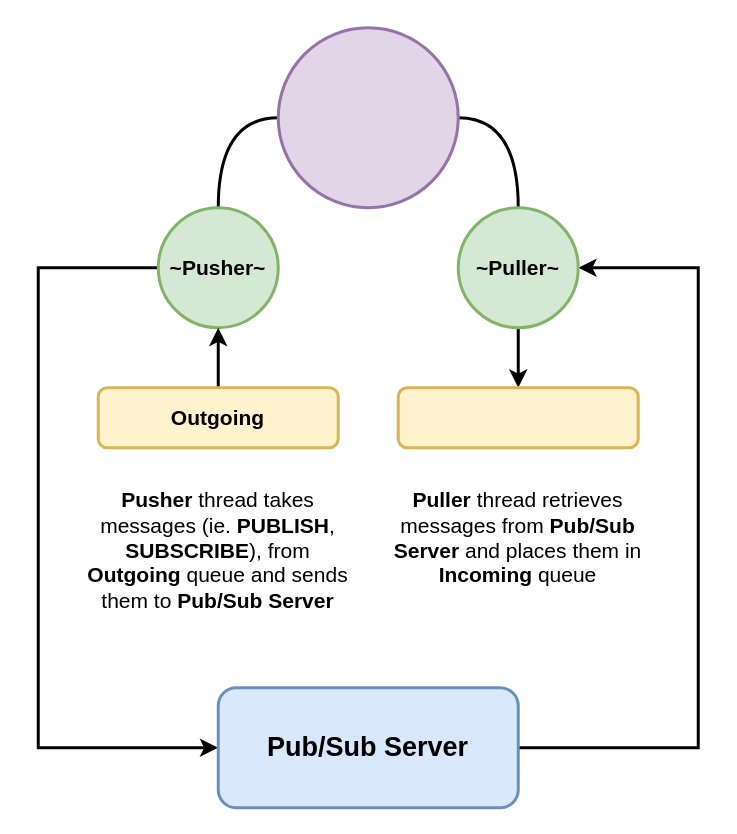
Image size: 737x834. Some labels were removed from this diagram. The shapes that lost their labels are listed below. From the top down, each one's box as (x1, y1, x2, y2) in pixels, then its label:
(276, 26, 459, 208): Client
(396, 386, 639, 448): Incoming
